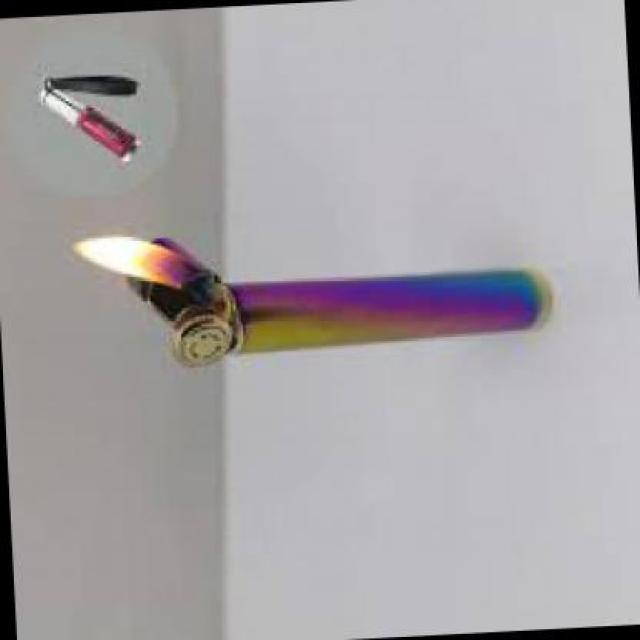Fire: (67, 225, 198, 289)
